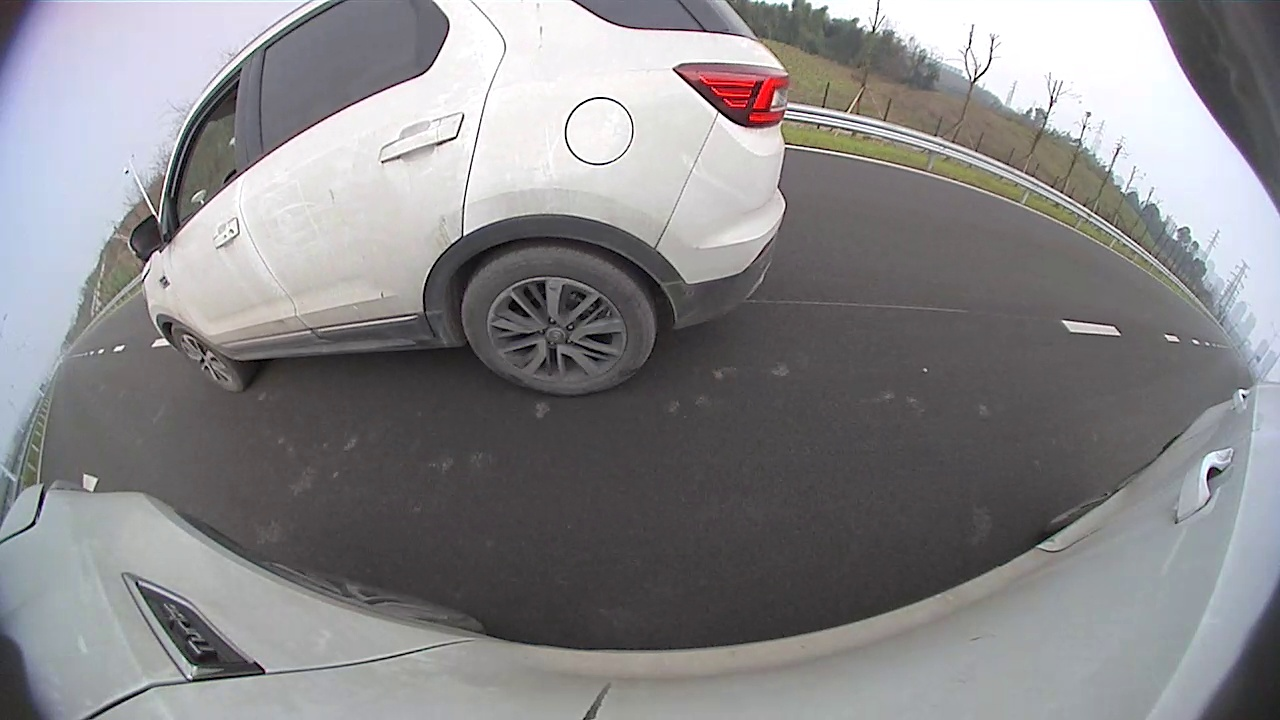car: (128, 1, 788, 397)
front: (172, 321, 246, 394)
rear: (464, 248, 656, 394)
